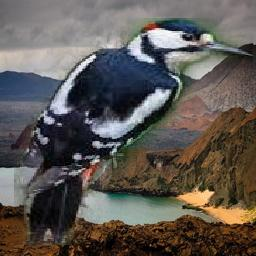Woodpecker: (15, 19, 254, 246)
